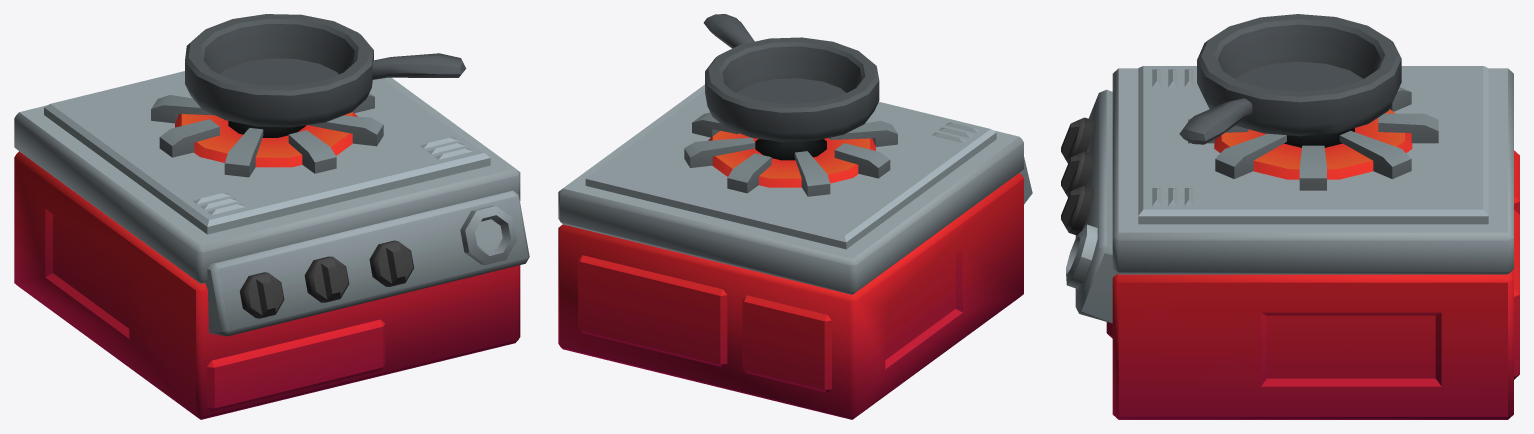
File: stove_counter.glb
3 renders of one model, left to right at view 1: azimuth 30°, elevation 25°; view 2: azimuth 150°, elevation 25°; view 3: azimuth 270°, elevation 25°, orthographic. The views are drawn at different scales.
Visible parts, largest first — view 1: stove_single, pan_B; view 2: stove_single, pan_B; view 3: stove_single, pan_B.
Part boxes in pixels (<box>): stove_single: <box>14,71,529,419</box>; pan_B: <box>185,14,466,127</box>; stove_single: <box>558,84,1032,419</box>; pan_B: <box>703,14,879,141</box>; stove_single: <box>1061,66,1519,419</box>; pan_B: <box>1179,14,1401,144</box>.
Size of the model in its own units: 2 by 1.57 by 2.29.
Materials: 1 (1 with a texture image).
